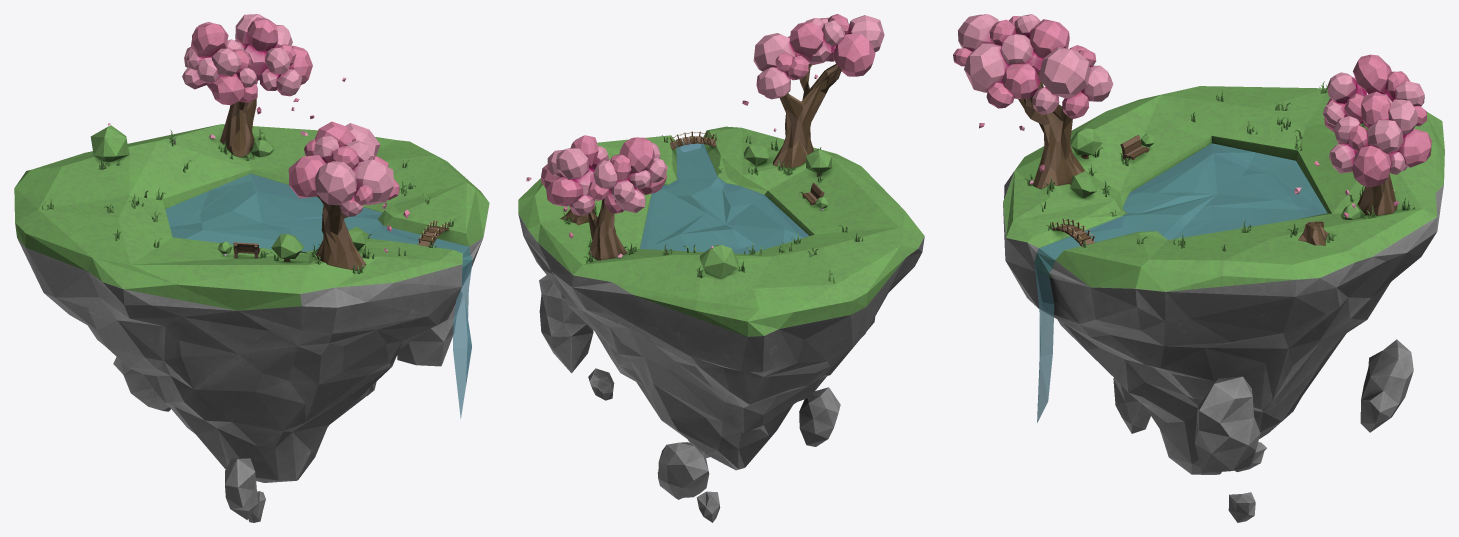
Rendered from floating_island-v1.glb.
The picture shows the model from 3 angles, left to right: view 1: azimuth 30°, elevation 25°; view 2: azimuth 150°, elevation 25°; view 3: azimuth 270°, elevation 25°; orthographic projection. The views are drawn at different scales.
Parts seen in each view (by area): view 1: polySurface1, polySurface93, tree_lowpoly2:tree_1 (×7), tree_lowpoly2:group1 (×4), tree_lowpoly2:pCylinder2, pCube2, pCube1, pCube3, kust, kust1; view 2: polySurface1, polySurface93, tree_lowpoly2:tree_1 (×6), tree_lowpoly2:group1 (×5), pCube2, tree_lowpoly2:pCylinder2, pCube3, pCube1, kust, pCube4, pCube5, kust1 (+1 smaller); view 3: polySurface1, polySurface93, tree_lowpoly2:tree_1 (×10), tree_lowpoly2:group1 (×7), pCube2, pCube3, tree_lowpoly2:pCylinder2, pCube1, kust1, pCube5, kust2.
Part boxes in pixels (<box>): polySurface1: <box>14,124,489,482</box>; polySurface93: <box>165,173,472,419</box>; tree_lowpoly2:tree_1 (×7): <box>191,17,302,157</box>; tree_lowpoly2:group1 (×4): <box>288,121,394,205</box>; tree_lowpoly2:pCylinder2: <box>315,195,365,270</box>; pCube2: <box>397,292,462,366</box>; pCube1: <box>225,458,257,519</box>; pCube3: <box>113,357,170,411</box>; kust: <box>90,125,129,161</box>; kust1: <box>271,234,303,261</box>; polySurface1: <box>518,126,924,470</box>; polySurface93: <box>640,141,808,254</box>; tree_lowpoly2:tree_1 (×6): <box>546,135,654,260</box>; tree_lowpoly2:group1 (×5): <box>753,15,884,99</box>; pCube2: <box>539,275,593,373</box>; tree_lowpoly2:pCylinder2: <box>773,63,841,168</box>; pCube3: <box>657,442,709,499</box>; pCube1: <box>799,387,840,446</box>; kust: <box>699,245,738,278</box>; pCube4: <box>588,368,614,400</box>; pCube5: <box>696,491,720,522</box>; kust1: <box>806,148,831,176</box>; polySurface1: <box>1003,86,1444,474</box>; polySurface93: <box>1034,143,1327,422</box>; tree_lowpoly2:tree_1 (×10): <box>1327,54,1431,215</box>; tree_lowpoly2:group1 (×7): <box>958,14,1113,101</box>; pCube2: <box>1194,376,1260,472</box>; pCube3: <box>1360,339,1413,432</box>; tree_lowpoly2:pCylinder2: <box>1018,72,1085,189</box>; pCube1: <box>1113,378,1150,433</box>; kust1: <box>1070,128,1102,158</box>; pCube5: <box>1228,492,1255,522</box>; kust2: <box>1070,171,1098,198</box>.
Size of the model in its own units: 845 by 971 by 873.
Materials: 2 (2 with a texture image).
